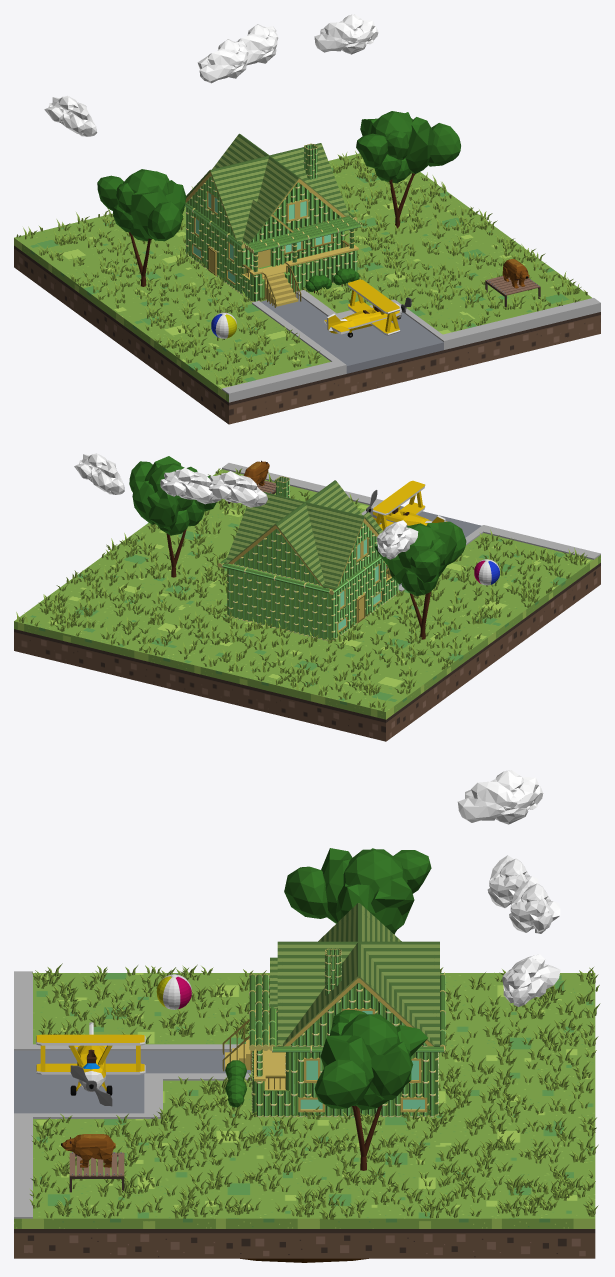
3 views of the same model, one above another, from view 1: azimuth 30°, elevation 25°; view 2: azimuth 150°, elevation 25°; view 3: azimuth 270°, elevation 25° (orthographic). The views are drawn at different scales.
Visible parts, largest first — view 1: Cube.006, Cube.1327, Circle.012_Grass_0.192, Cube.007, tree, tree.001, VEHICLES_AIRPLANE, Cube.009, OBJRANDOM_BEACHBALL, ANIMAL_OSO; view 2: Cube.006, Cube.1327, Circle.012_Grass_0.192, Cube.007, tree.001, tree, VEHICLES_AIRPLANE, OBJRANDOM_BEACHBALL, ANIMAL_OSO; view 3: Cube.006, Circle.012_Grass_0.192, Cube.1327, tree, Cube.007, tree.001, VEHICLES_AIRPLANE, Cube.009, ANIMAL_OSO, OBJRANDOM_BEACHBALL.
Boxes of the visible parts, x1,y1,x2,y2 form: Cube.006: (14,153,600,424); Cube.1327: (185,133,361,307); Circle.012_Grass_0.192: (16,151,587,386); Cube.007: (44,14,378,136); tree: (356,111,460,228); tree.001: (97,169,186,286); VEHICLES_AIRPLANE: (324,279,411,337); Cube.009: (485,276,540,306); OBJRANDOM_BEACHBALL: (211,312,236,338); ANIMAL_OSO: (502,259,529,288); Cube.006: (14,463,600,741); Cube.1327: (218,476,398,641); Circle.012_Grass_0.192: (16,468,587,711); Cube.007: (74,453,418,559); tree.001: (374,521,466,639); tree: (129,456,216,577); VEHICLES_AIRPLANE: (366,480,446,530); OBJRANDOM_BEACHBALL: (474,559,499,585); ANIMAL_OSO: (243,460,269,485); Cube.006: (14,971,595,1258); Circle.012_Grass_0.192: (29,963,600,1219); Cube.1327: (222,903,445,1117); tree: (314,1010,427,1170); Cube.007: (457,770,560,1006); tree.001: (284,848,431,934); VEHICLES_AIRPLANE: (36,1022,145,1106); Cube.009: (69,1152,124,1192); ANIMAL_OSO: (61,1134,115,1167); OBJRANDOM_BEACHBALL: (156,974,191,1009).
Bounding box in the file's own units: 4071 × 2242 × 4040.
38 materials, 4 textured.
